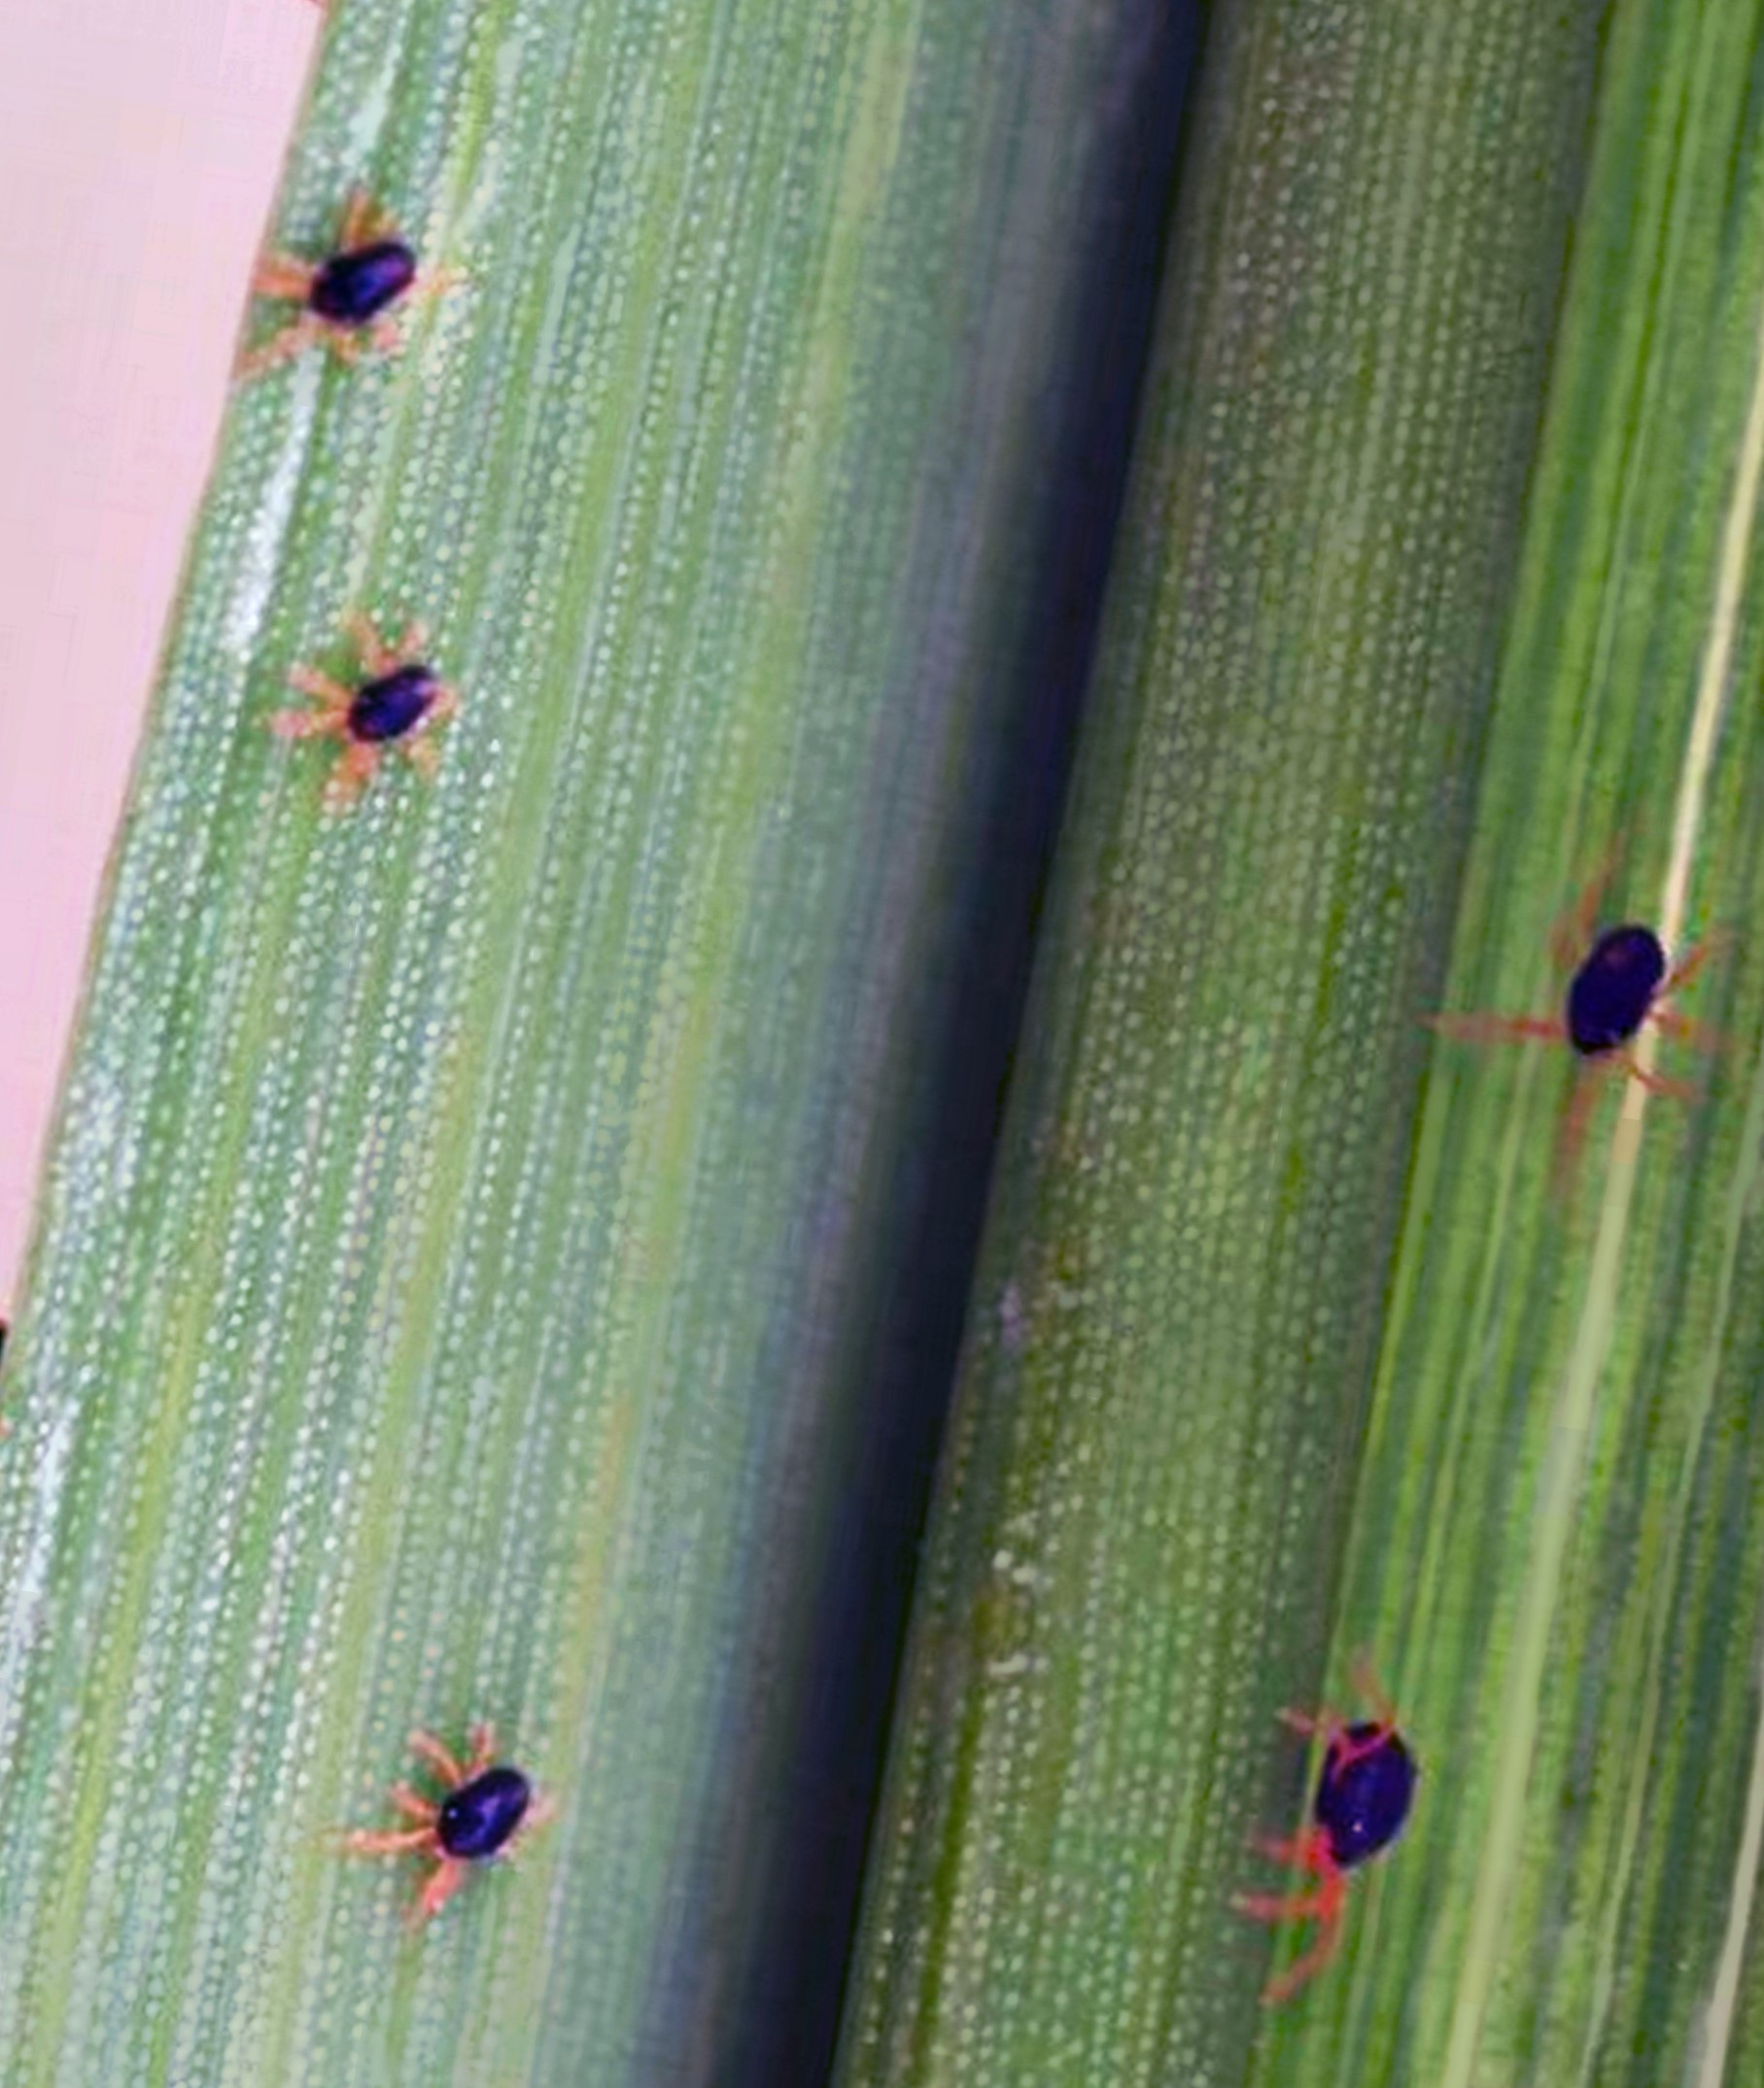Wheat Red Spider: (1214, 1650, 1459, 2027)
